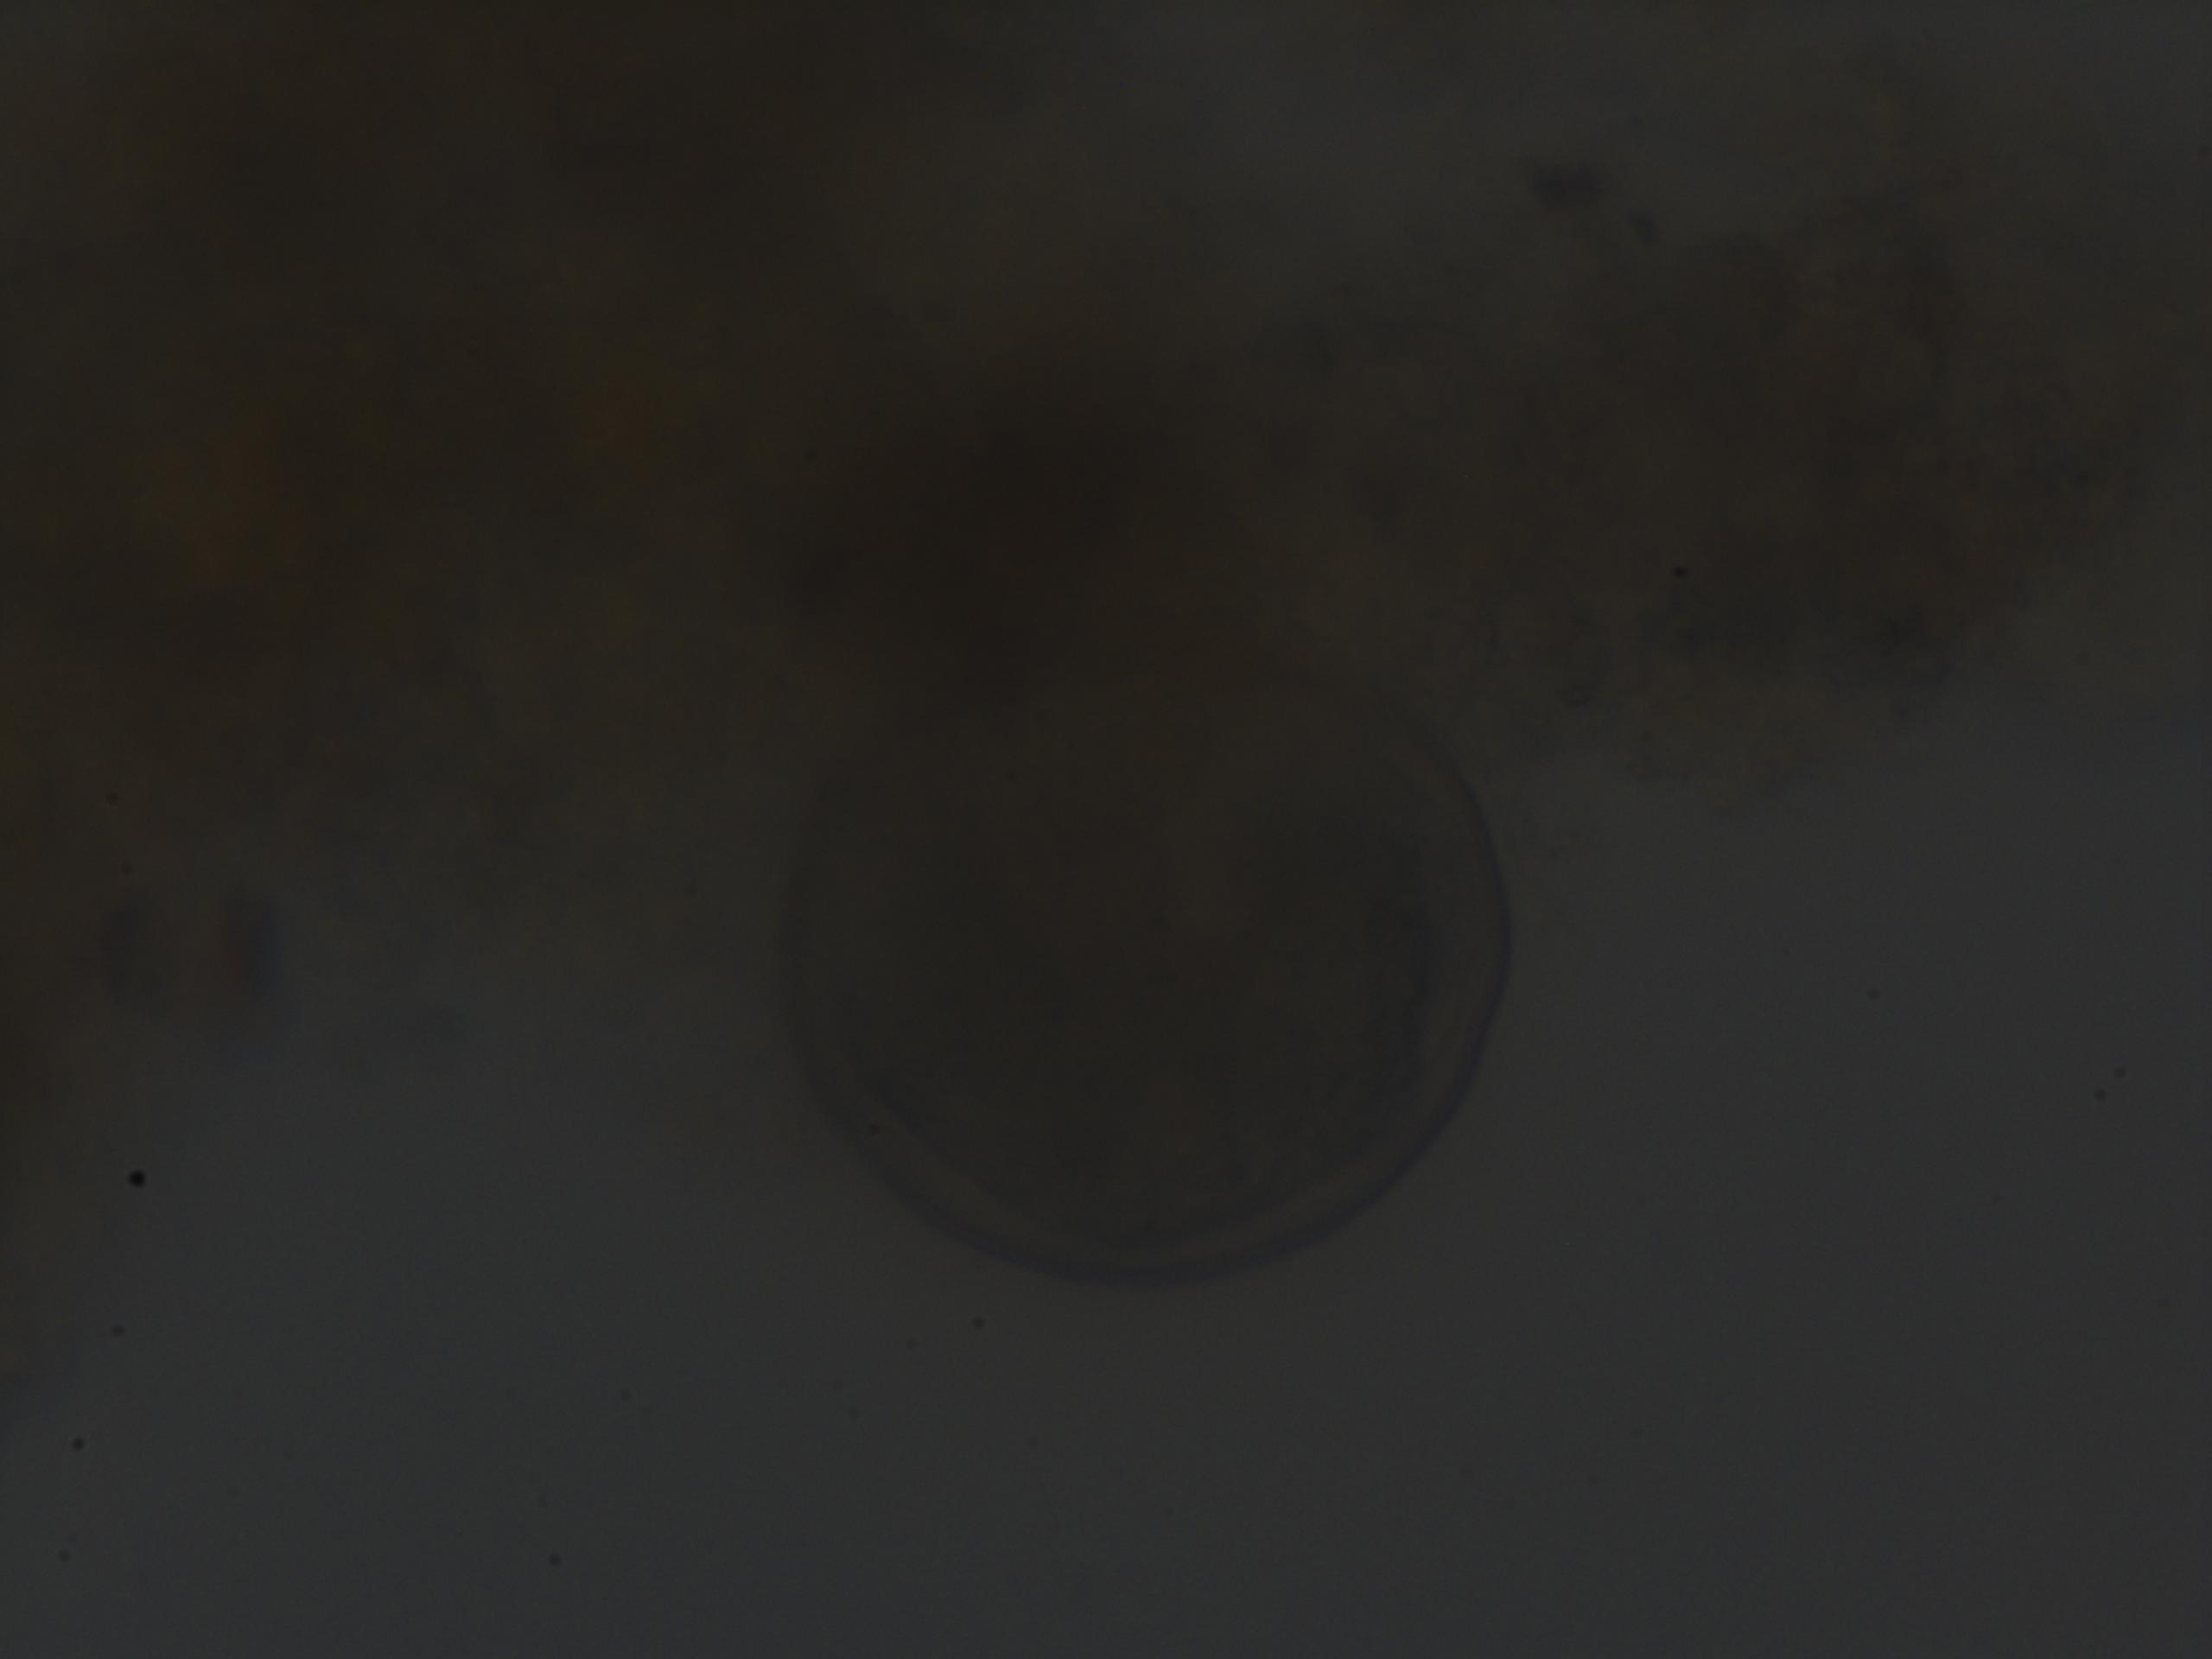protozoa: (744, 627, 1531, 1300)
